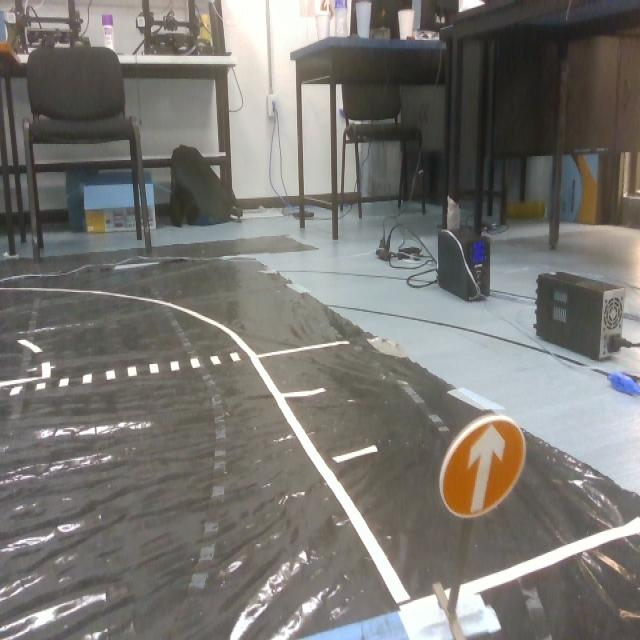right_turn: (446, 410, 522, 518)
